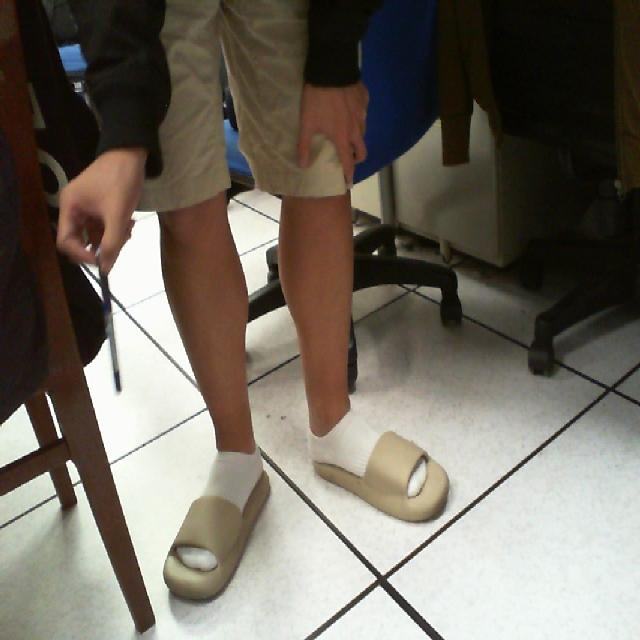Pen: (82, 244, 144, 421)
